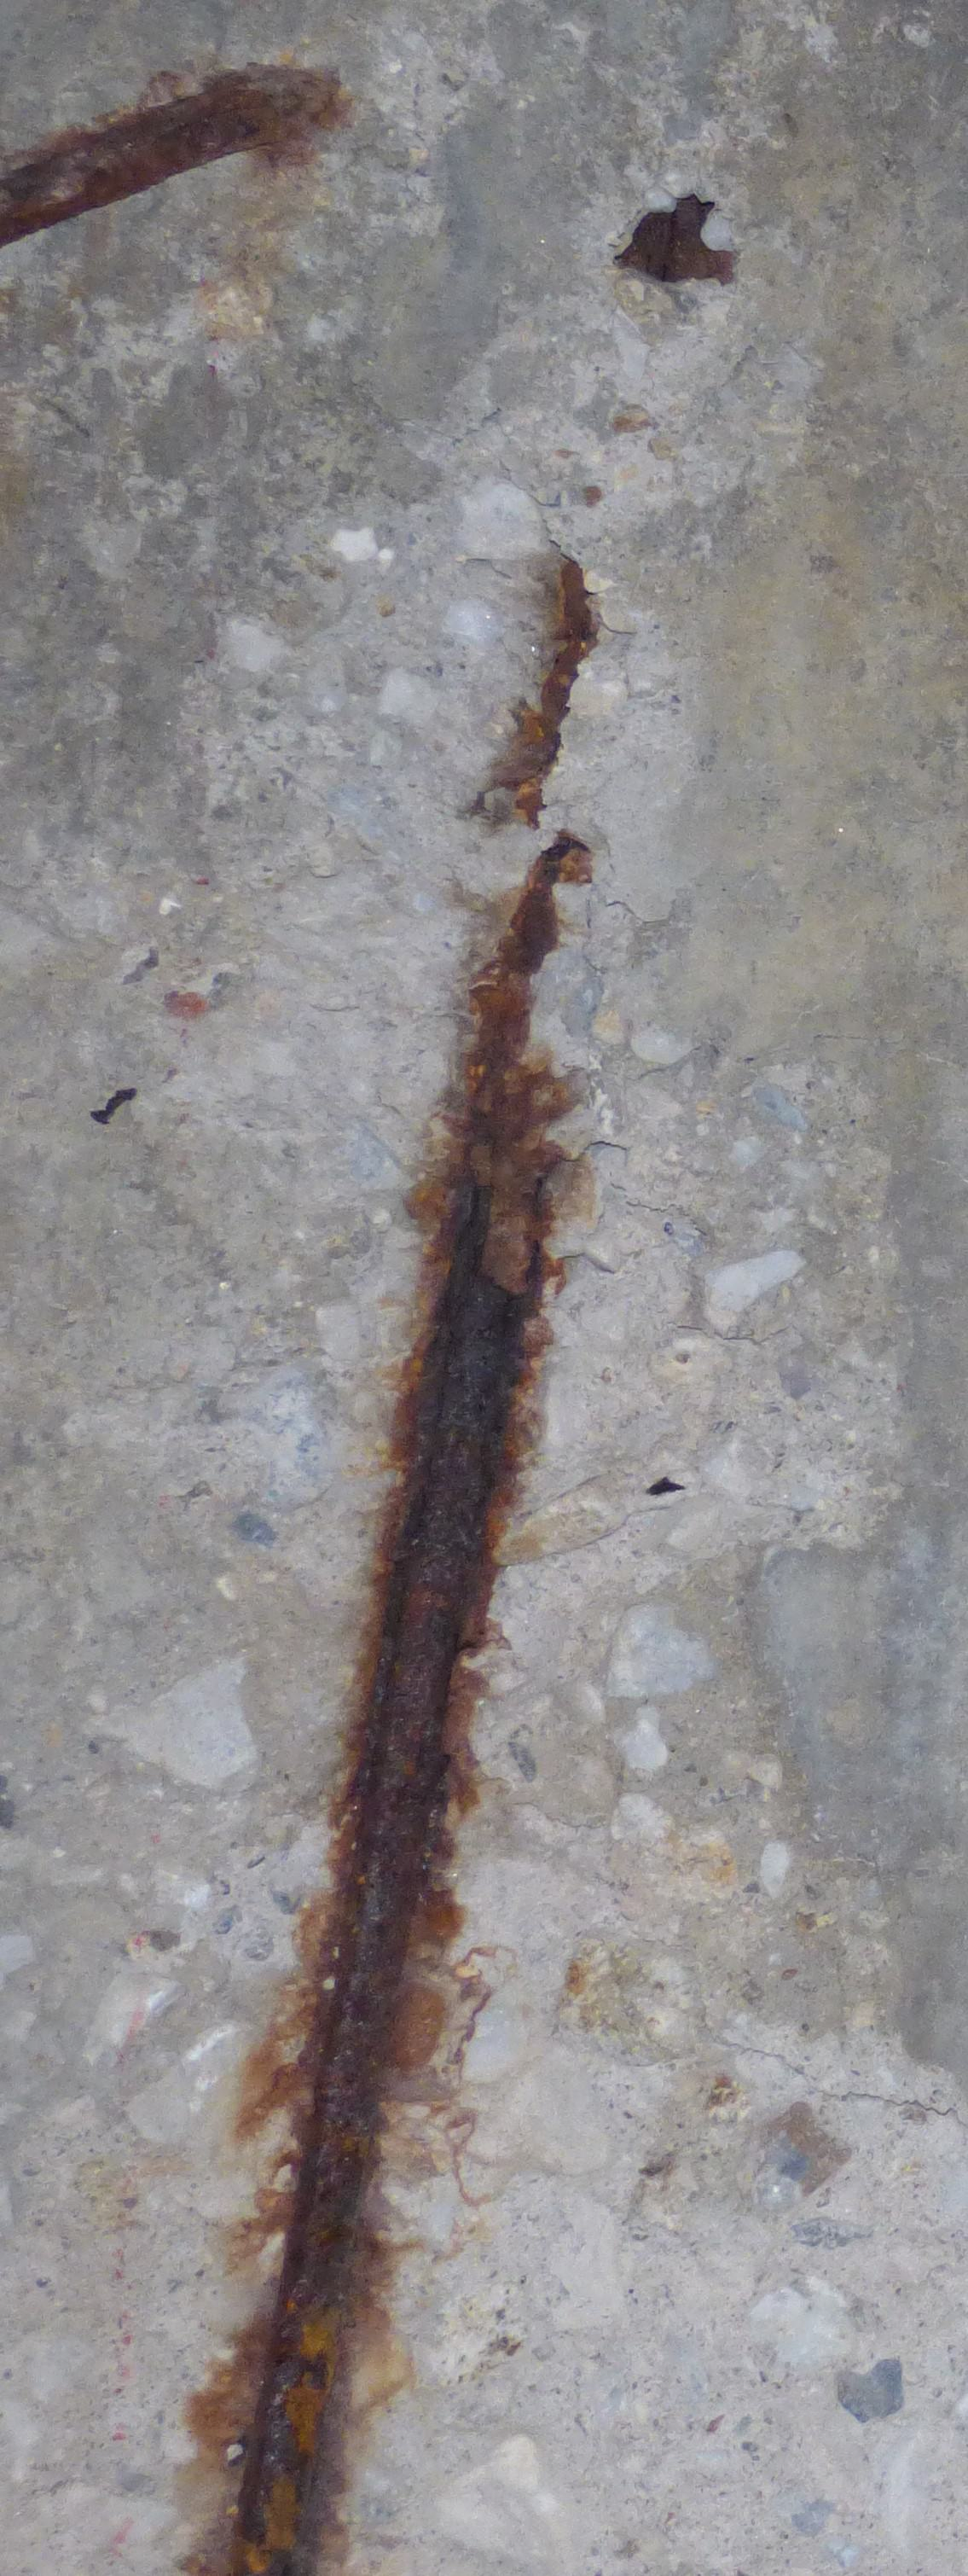Corrosion: (436, 828, 593, 1184), (493, 560, 598, 831), (615, 192, 740, 284)
Exposed reinforcement: (227, 1184, 529, 2576), (2, 64, 335, 246)
